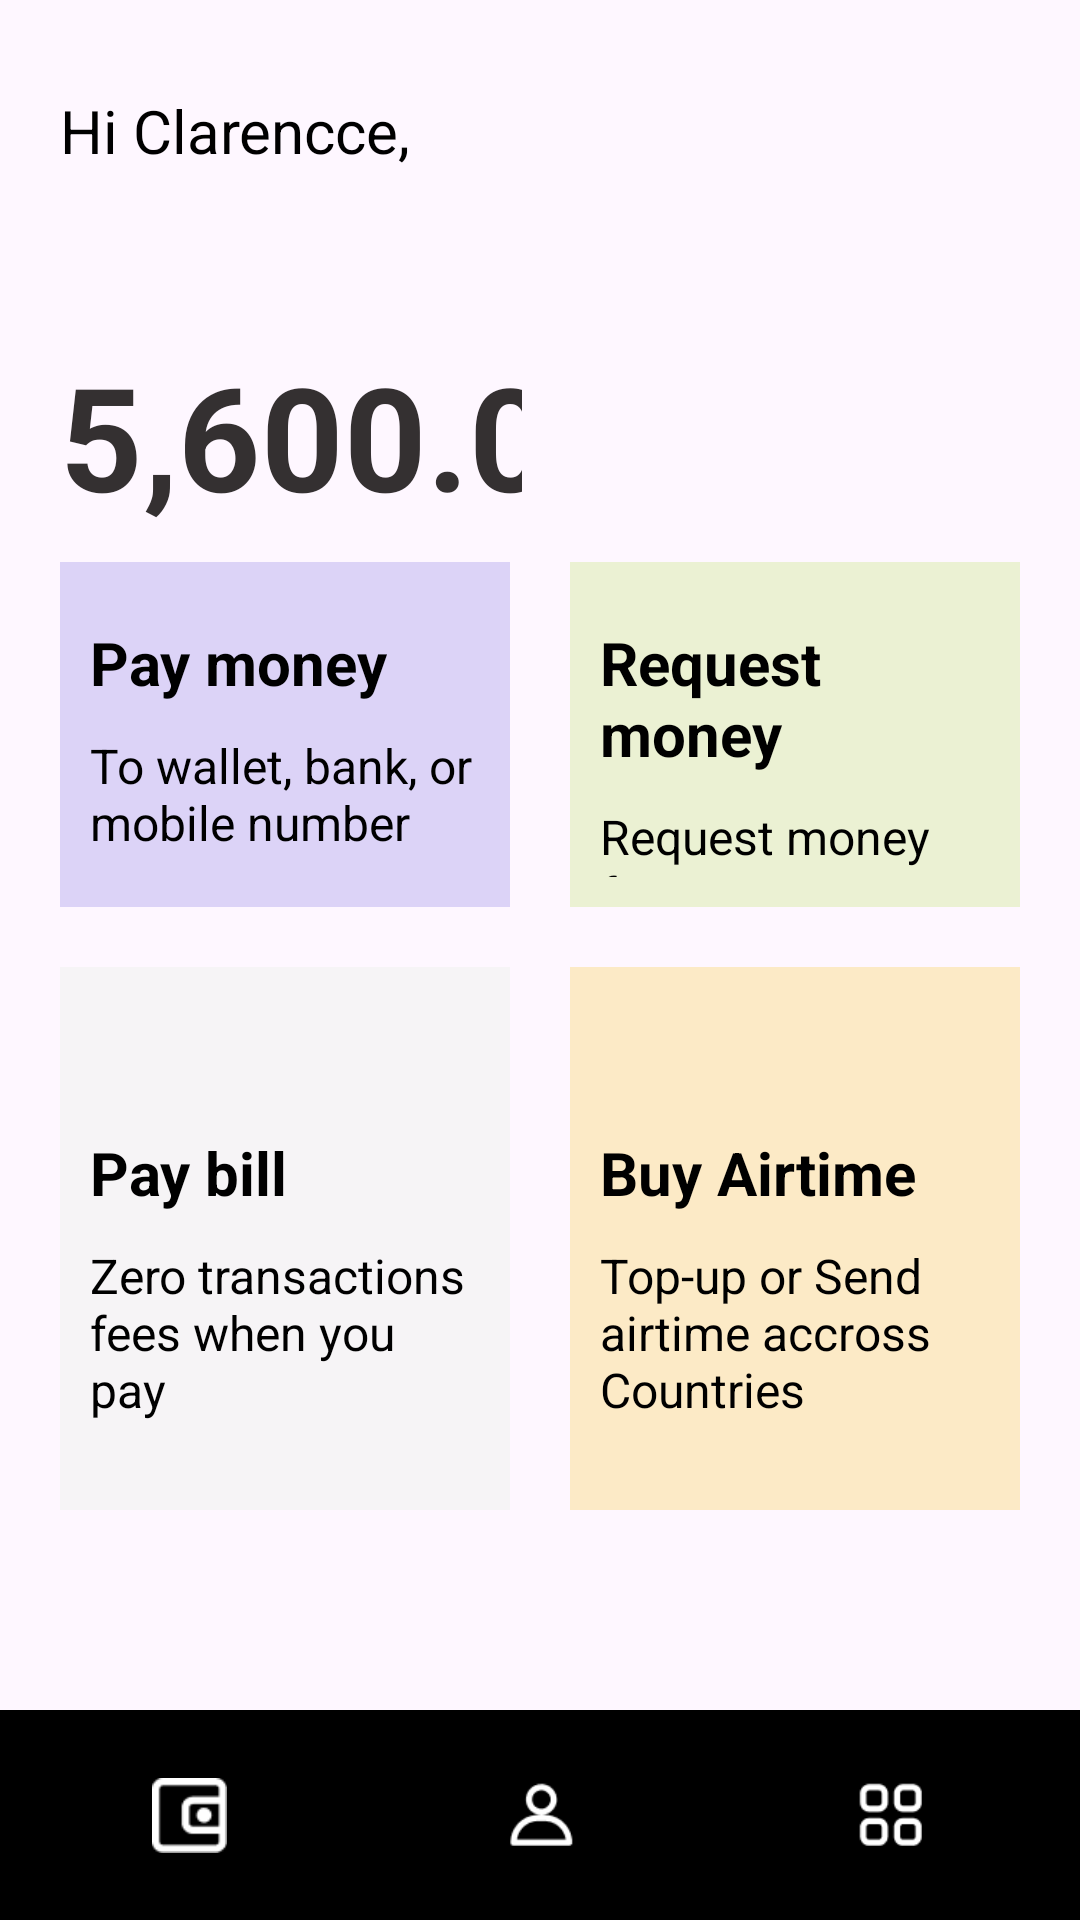

Point at icon controls on the screen. Image size 1080 x 1920, points as point (x, y).
dashboard: point (890, 1814)
ewallet: point (189, 1815)
profile: point (541, 1814)
